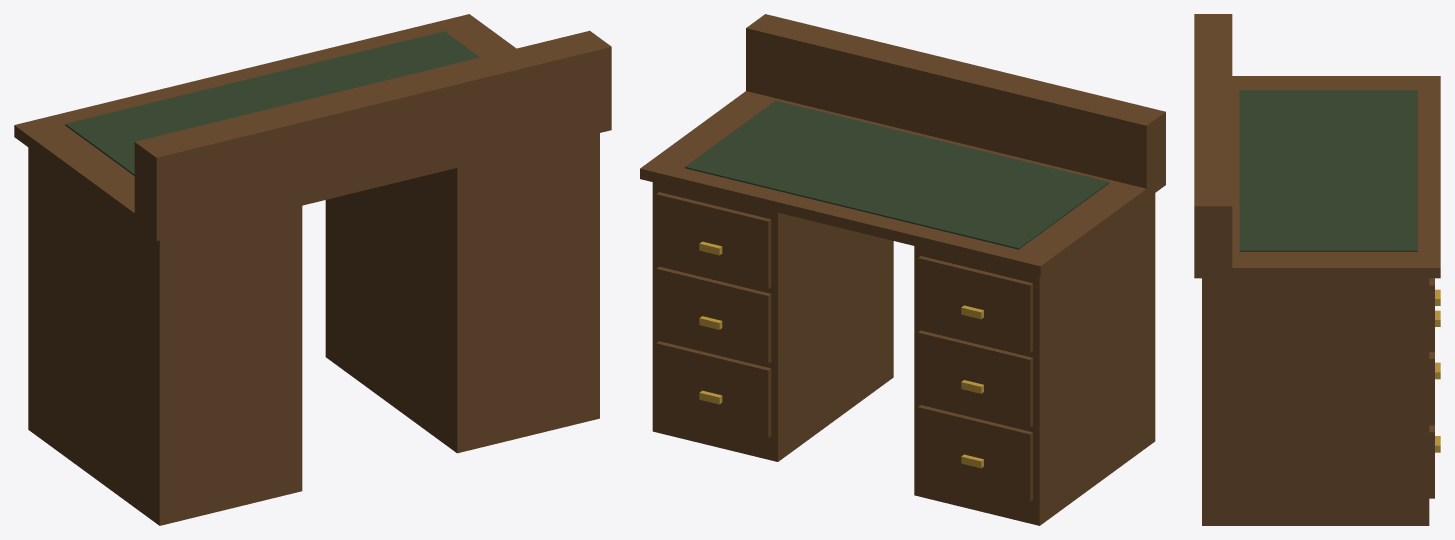
The model's file is parametric-desk-1st-pub.glb.
3 renders of one model, left to right at view 1: azimuth 30°, elevation 25°; view 2: azimuth 150°, elevation 25°; view 3: azimuth 270°, elevation 25°, orthographic. The views are drawn at different scales.
Parts seen in each view (by area): view 1: parametric-desk-1st-pub; view 2: parametric-desk-1st-pub; view 3: parametric-desk-1st-pub.
Boxes of the visible parts, box(x1,y1,x2,y2) form: parametric-desk-1st-pub: box(14, 14, 611, 525); parametric-desk-1st-pub: box(640, 14, 1165, 525); parametric-desk-1st-pub: box(1194, 14, 1440, 525).
Bounding box in the file's own units: 1.2 × 0.94 × 0.65.
